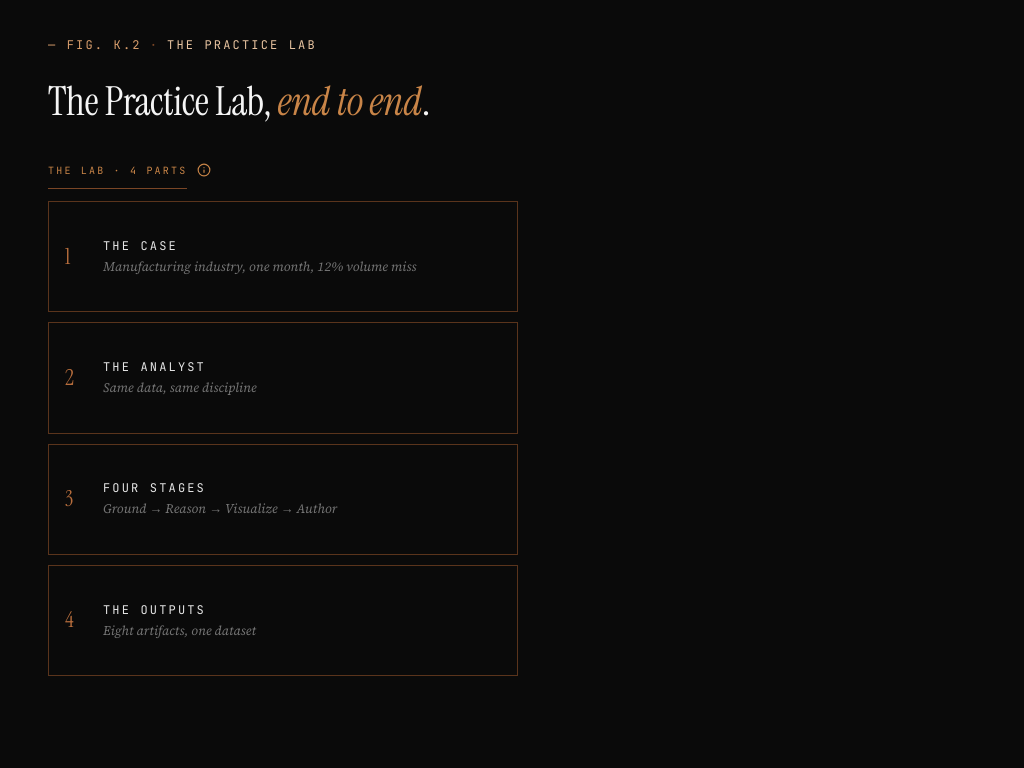
Scenario: the collateral renders as three new-tab link chips
The image size is (1024, 768).
Click the element showing "2 THE ANALYST Same data, same discipline".
click(283, 378)  # box [48,322,518,434]
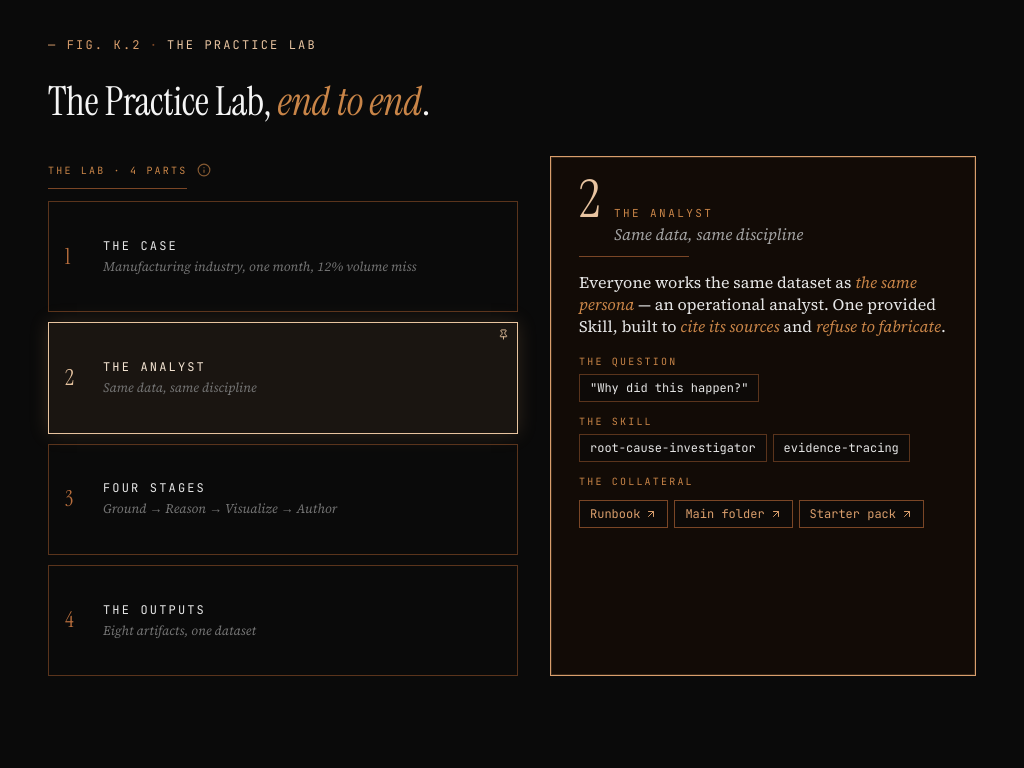
Expected: the number of links with test id "k2-linkchip" is 3, [579,500,668,528]; [674,500,793,528]; [799,500,924,528]
Expected: the elements with test id "k2-linkchip" read "Runbook", "Main folder", "Starter pack", in this order, [579,500,668,528]; [674,500,793,528]; [799,500,924,528]
